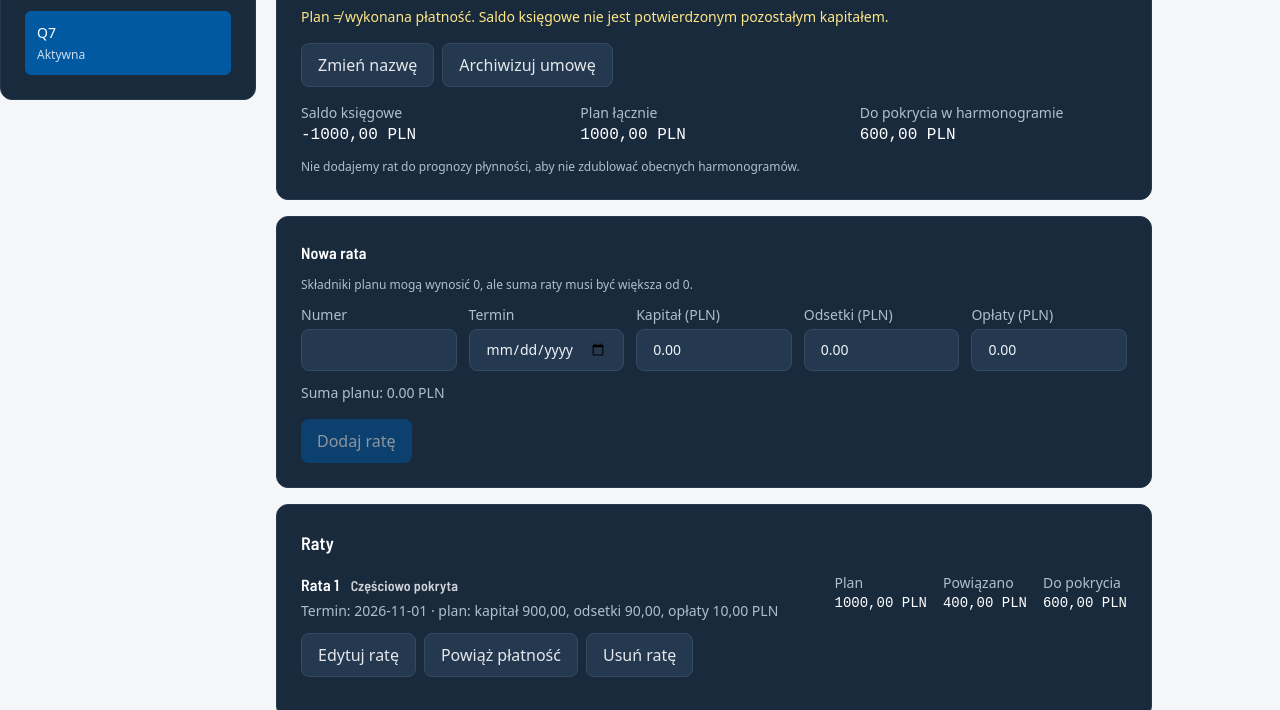
Test: FinanceLoans › keeps filled installment fields after an asynchronously rejected create
(page scrolled)
Type "2" into the number field labelled "Numer". click: (379, 350)
box: [301,329,457,371]
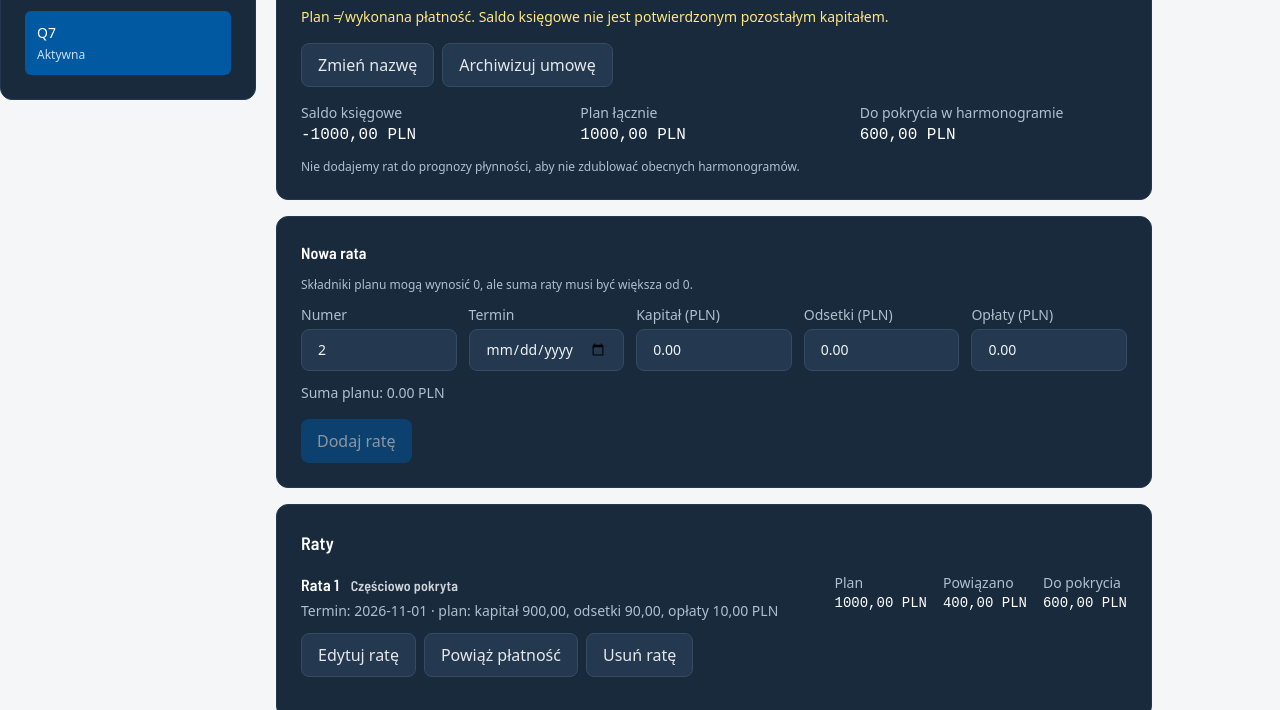
Type "2026-12-01" into the date field labelled "Termin". click: (546, 350)
box: [469,329,624,371]
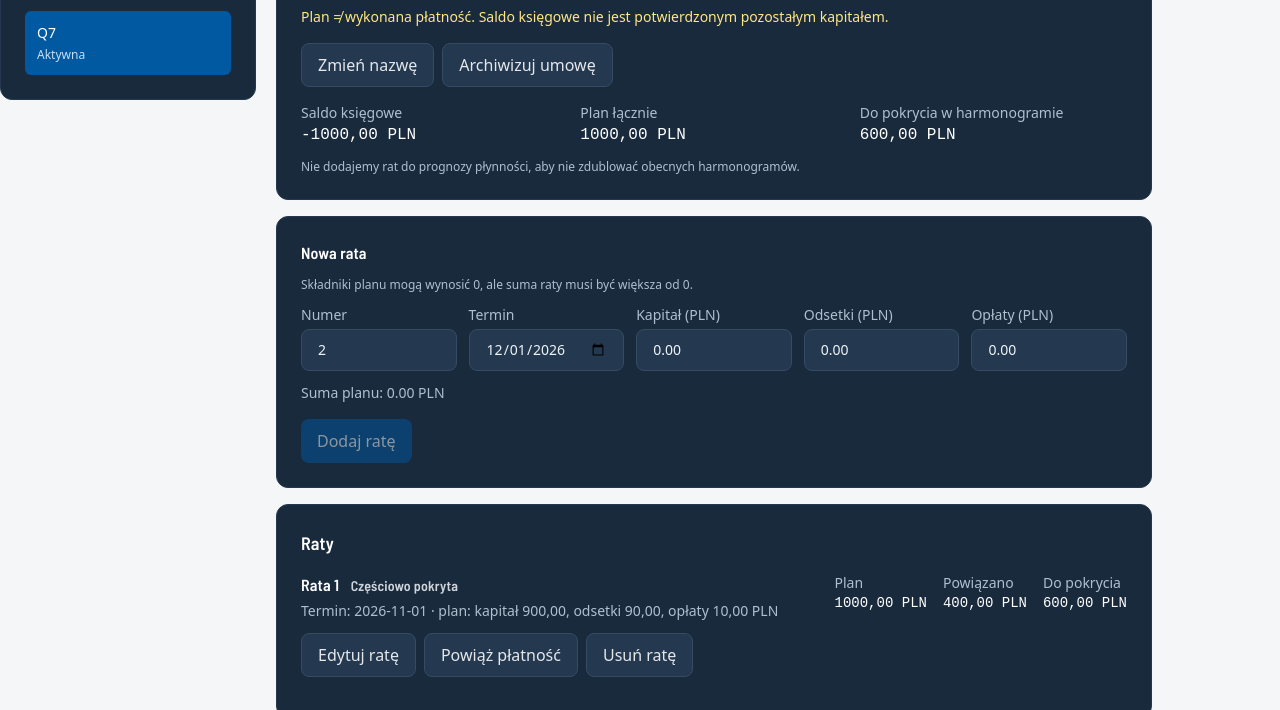
Replace the text in the field labelled "Kapitał (PLN)" with "900". click: (714, 350)
box: [636,329,792,371]
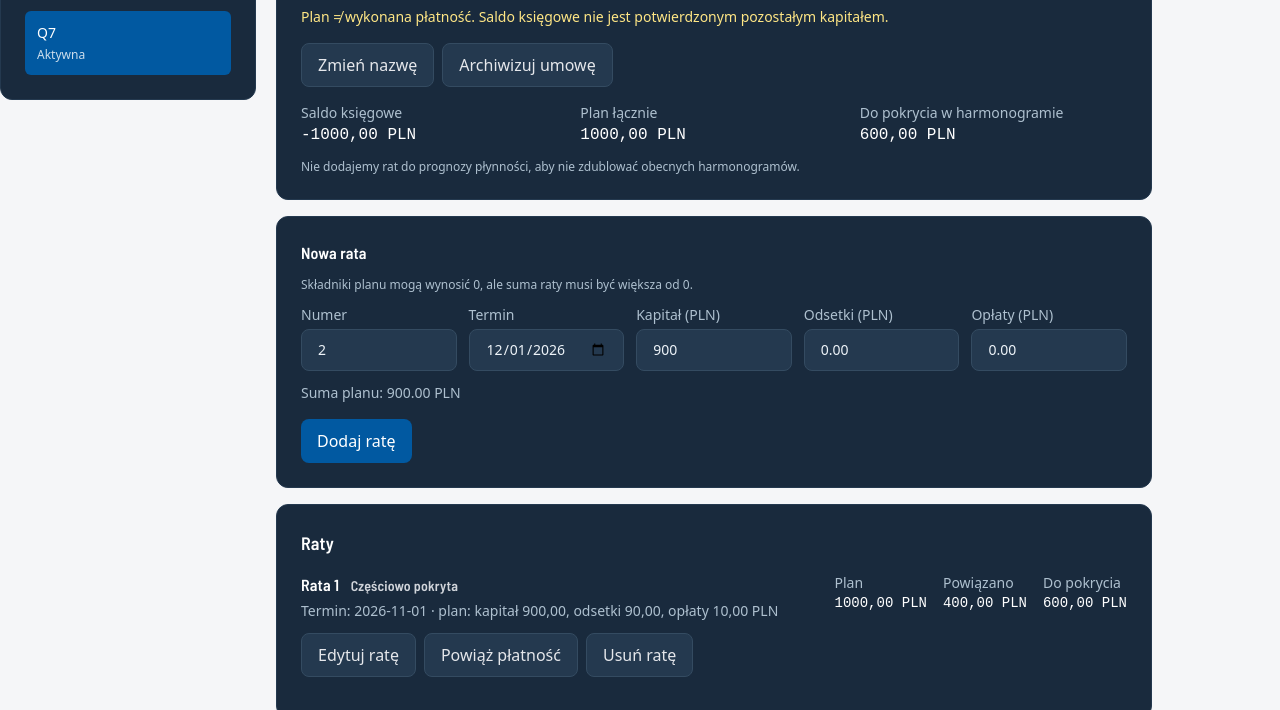
Click the button "Dodaj ratę". click: (356, 441)
box: [301,419,412,463]
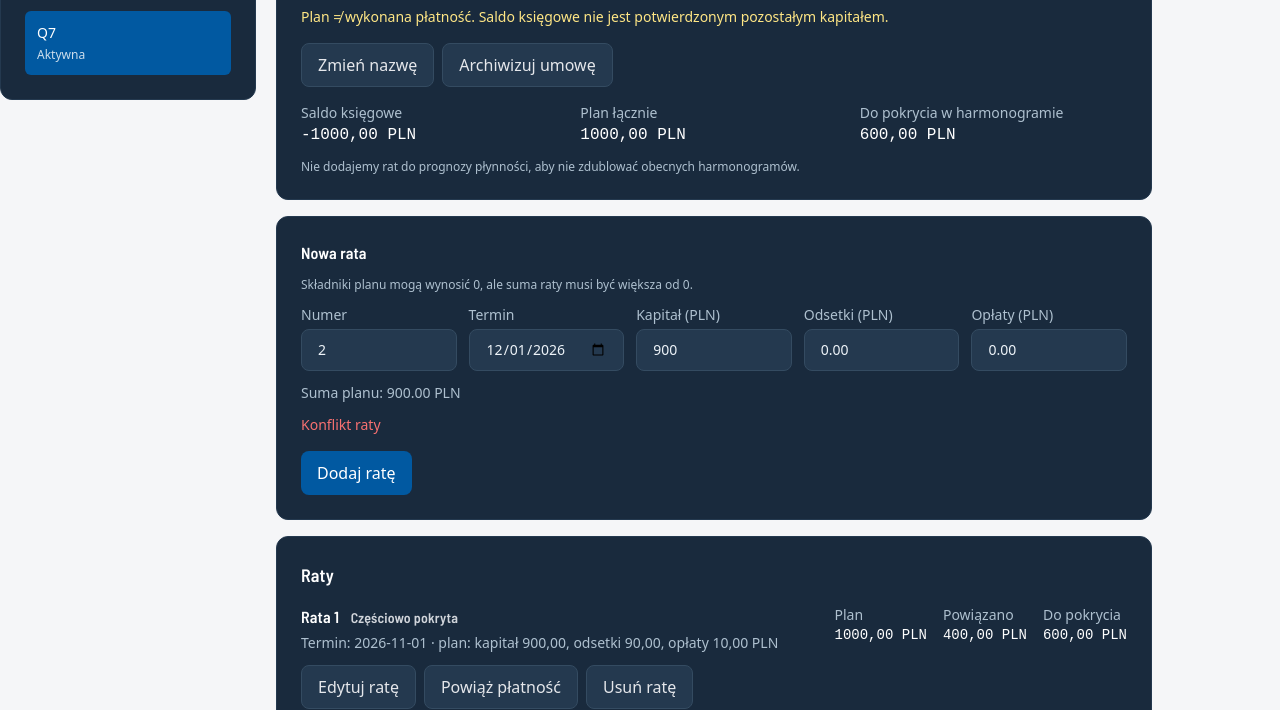
Expected: the message reads "Konflikt raty", [301,415,381,434]
